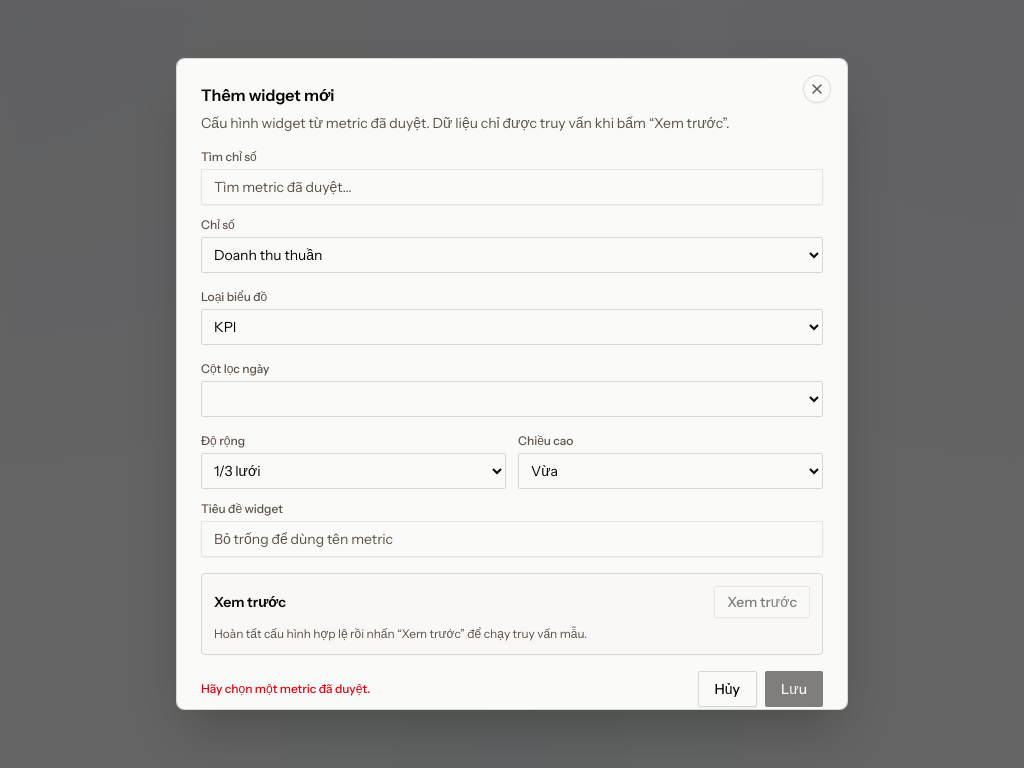
it: WidgetConfigModal › shows a deterministic chart recommendation badge for the chosen dimension
The image size is (1024, 768).
Select "Doanh thu thuần" in the dropdown labelled "Chỉ số" at (512, 255), box [201,237,823,273]
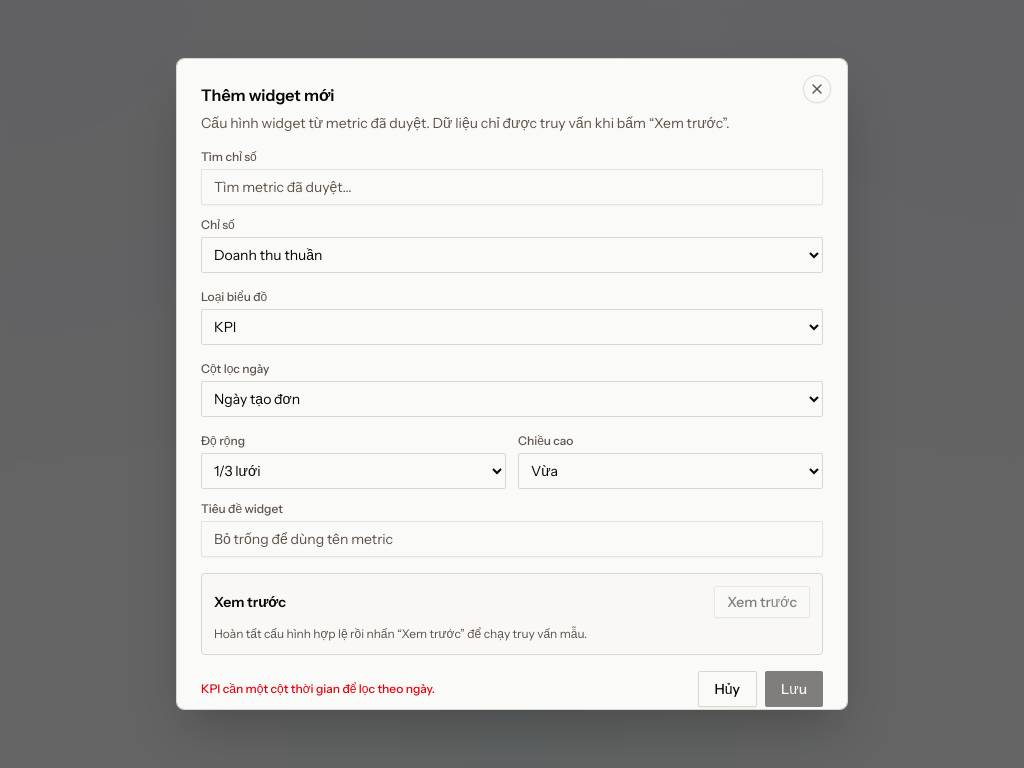
Select "Biểu đồ cột" in the dropdown labelled "Loại biểu đồ" at (512, 327), box [201,309,823,345]
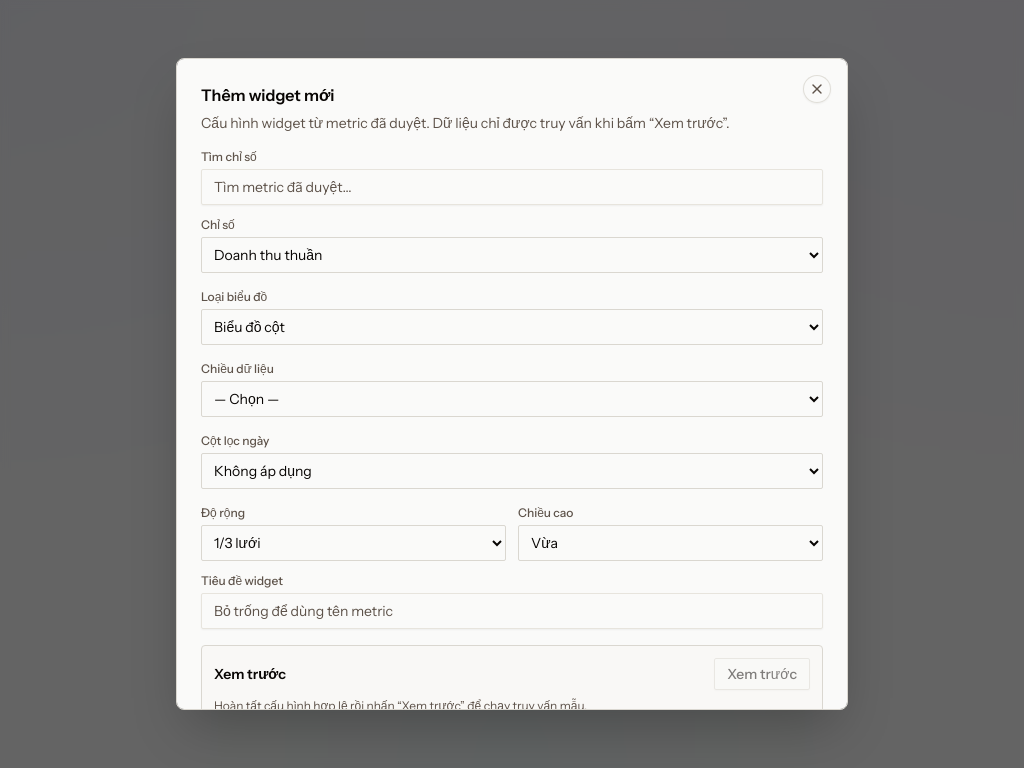
Select "Tên khách hàng" in the dropdown labelled "Chiều dữ liệu" at (512, 399), box [201,381,823,417]
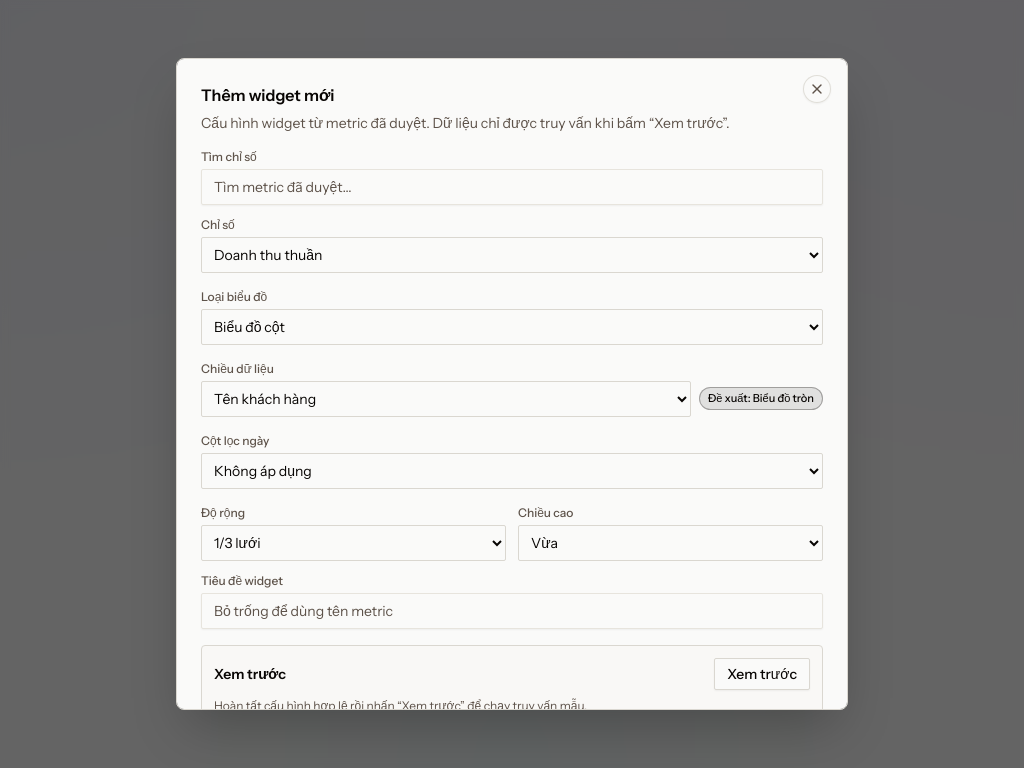
Now the text "Đề xuất: Biểu đồ tròn" is shown, box [699,387,823,410]
Select "Mã đơn hàng" in the dropdown labelled "Chiều dữ liệu" at (446, 399), box [201,381,691,417]
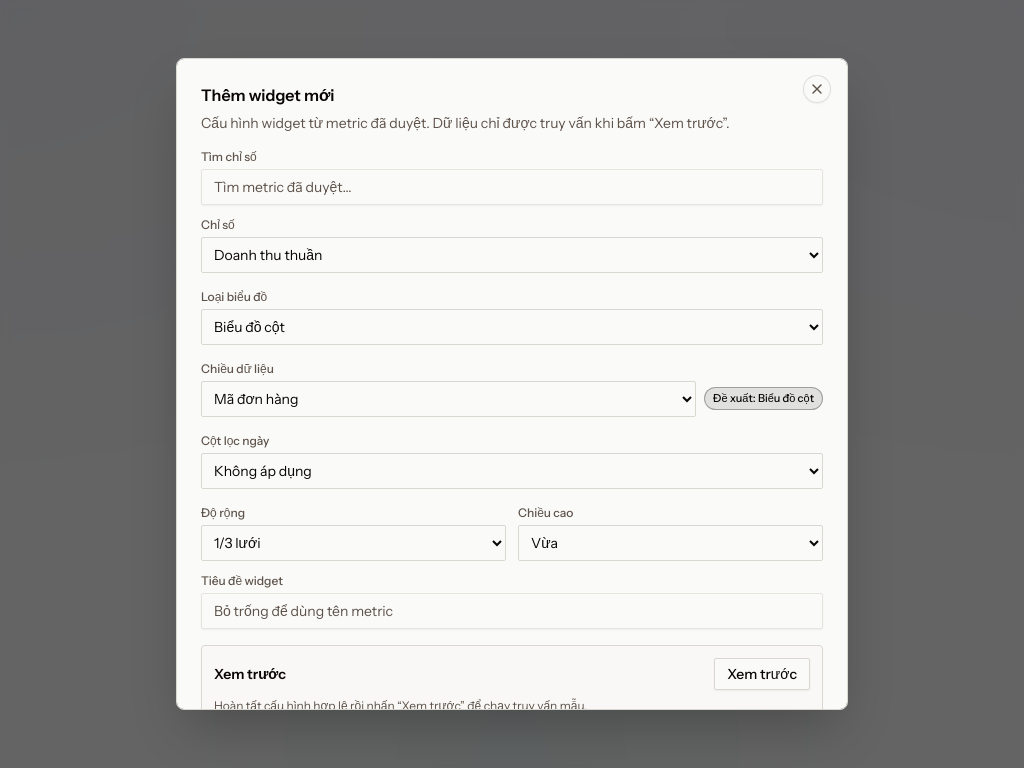
Now the text "Đề xuất: Biểu đồ cột" is shown, box [704,387,823,410]
